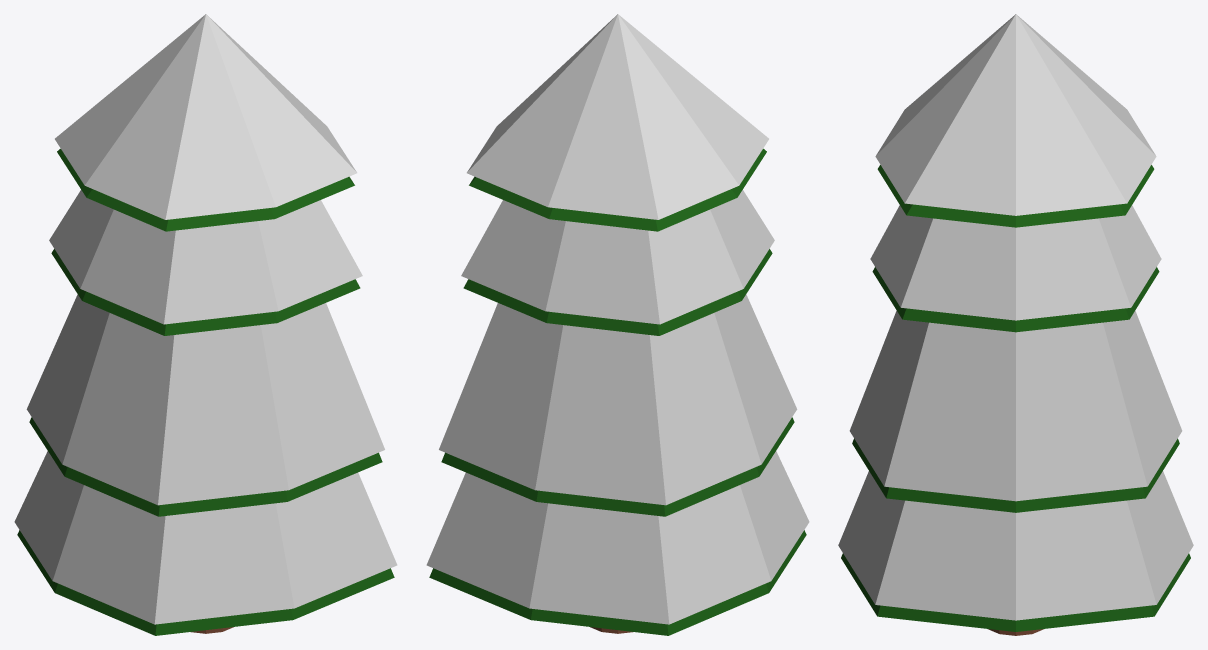
Rendered from Tree_22_winter_mat.fbx.
The picture shows the model from 3 angles, left to right: view 1: azimuth 30°, elevation 25°; view 2: azimuth 150°, elevation 25°; view 3: azimuth 270°, elevation 25°; orthographic projection.
Visible parts, largest first — view 1: Tree_22_winter_mat; view 2: Tree_22_winter_mat; view 3: Tree_22_winter_mat.
Part boxes in pixels (x1,y1,x2,y2): Tree_22_winter_mat: [14, 14, 397, 635]; Tree_22_winter_mat: [426, 14, 809, 635]; Tree_22_winter_mat: [838, 14, 1193, 635].
Bounding box in the file's own units: 3.36 × 6.34 × 3.36.
